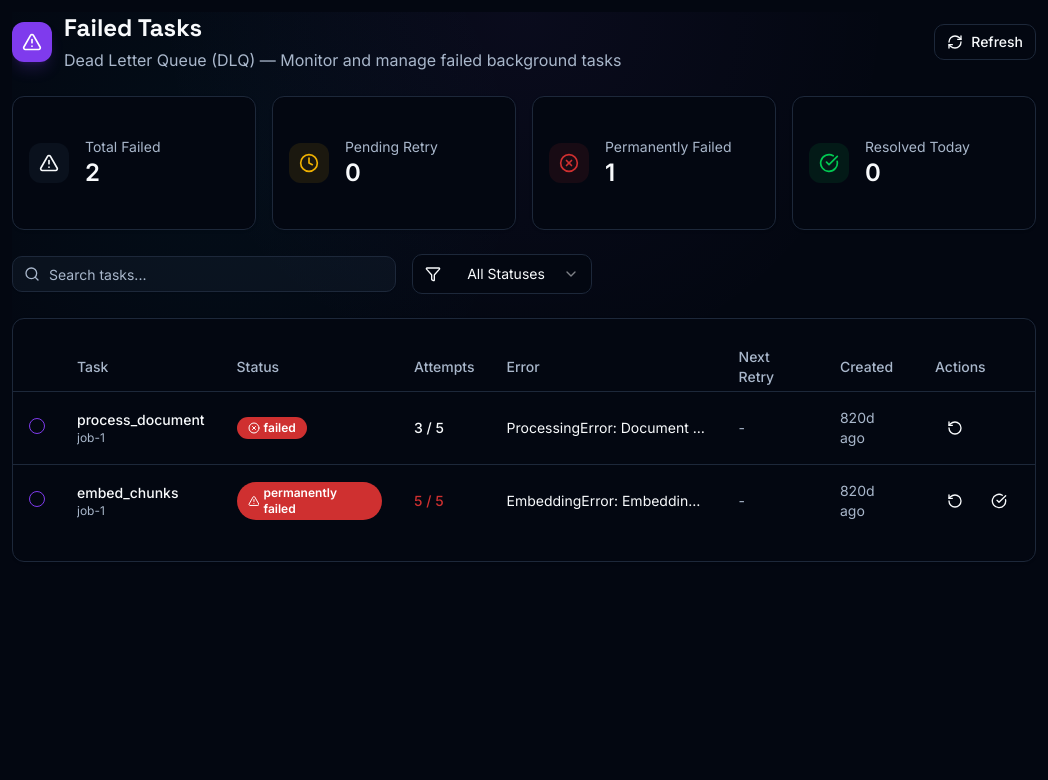
Test: DLQ Dashboard Actions › should toggle task selection
The image size is (1048, 780).
Expected: the text "process_document" is shown, [77,410,205,430]
Click the checkbox named "Select task process_document". click: (37, 426)
box: [29,418,45,434]
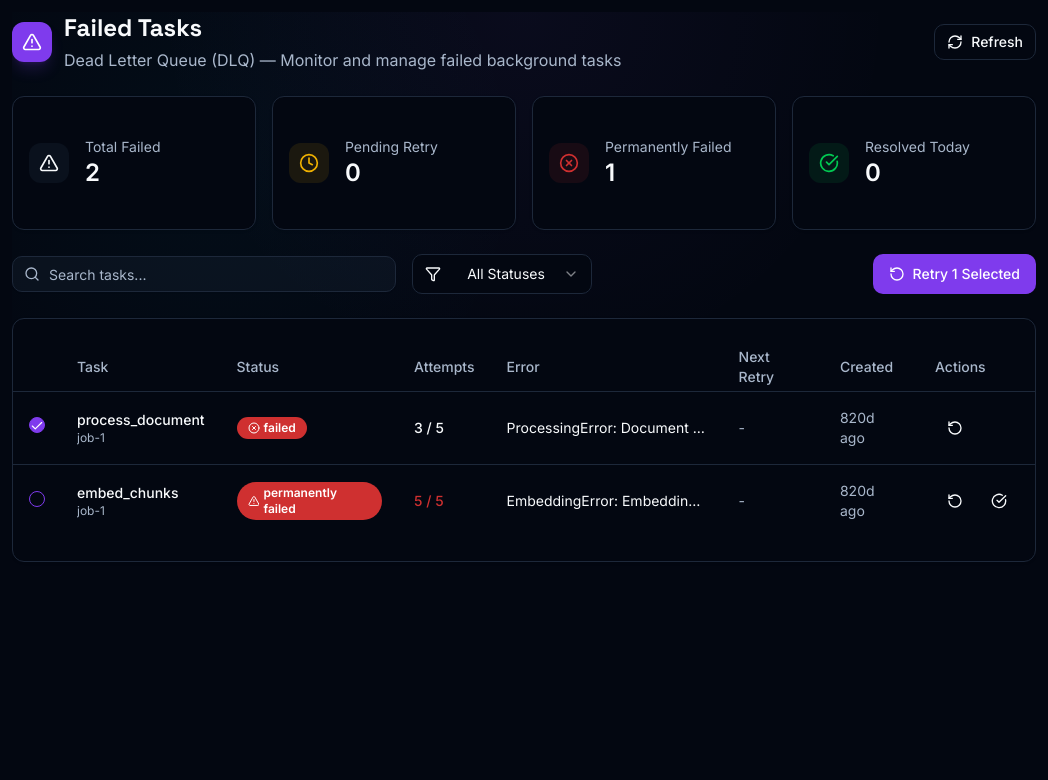
Expected: the button "Retry 1 Selected" is shown, [872,254,1036,294]
